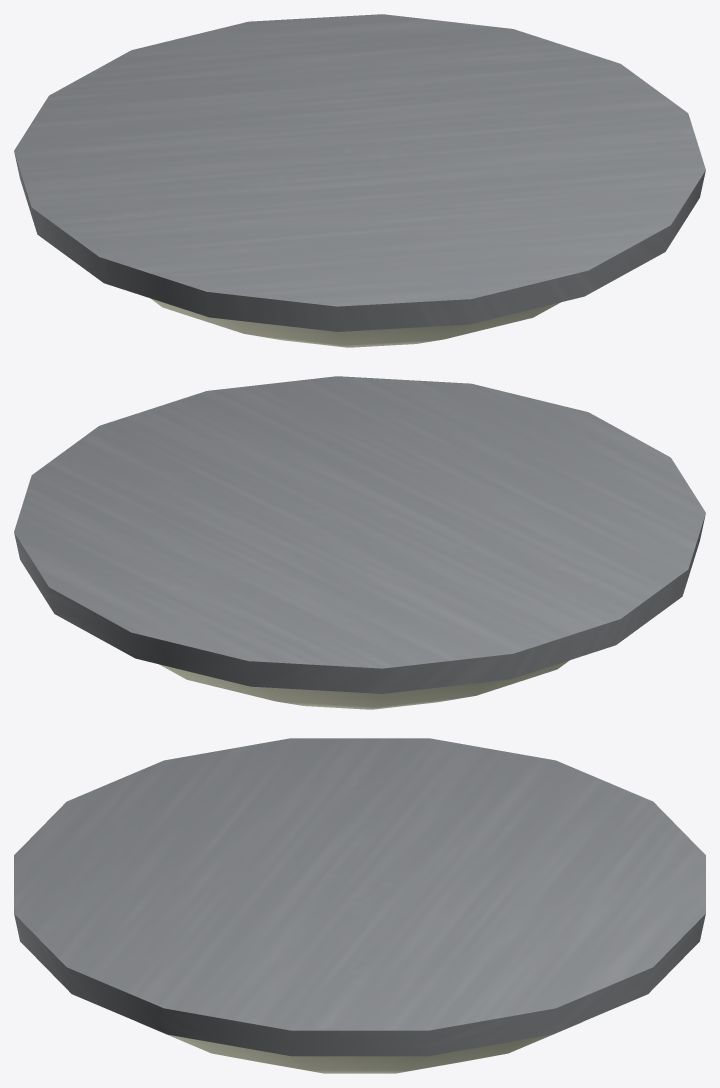
The model's file is station lamp 3.fbx.
The picture shows the model from 3 angles, top to bottom: view 1: azimuth 30°, elevation 25°; view 2: azimuth 150°, elevation 25°; view 3: azimuth 270°, elevation 25°; orthographic projection.
Visible parts, largest first — view 1: lamp 3_low; view 2: lamp 3_low; view 3: lamp 3_low.
Part boxes in pixels (<box>): lamp 3_low: <box>14,14,705,347</box>; lamp 3_low: <box>14,376,705,709</box>; lamp 3_low: <box>14,738,705,1073</box>.
Size of the model in its own units: 108 by 108 by 24.03.
